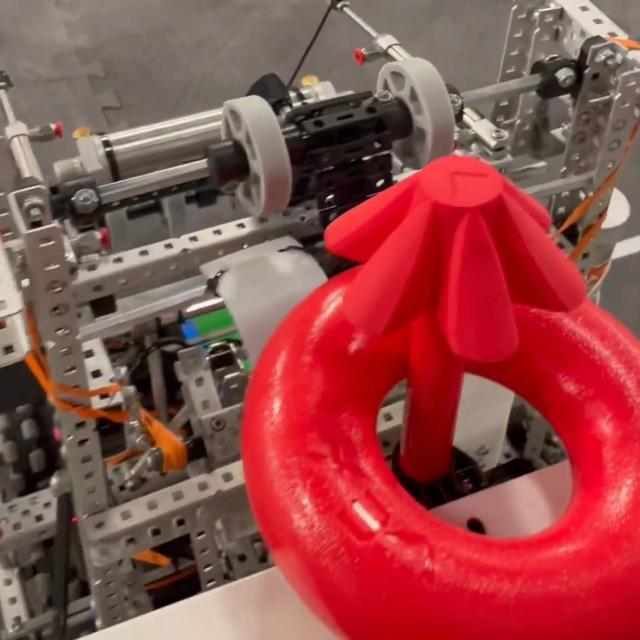Red-Ring: (242, 263, 640, 640)
zred-Stake-Head: (324, 155, 588, 361)
